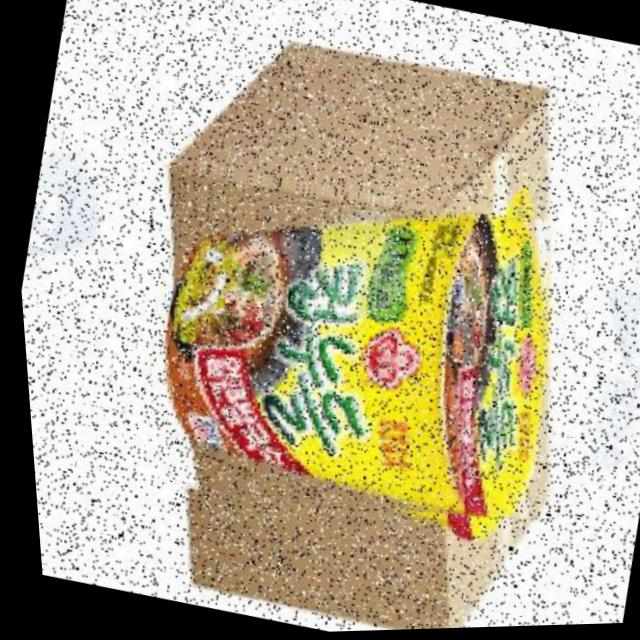Miscellaneous: (114, 151, 585, 560)
